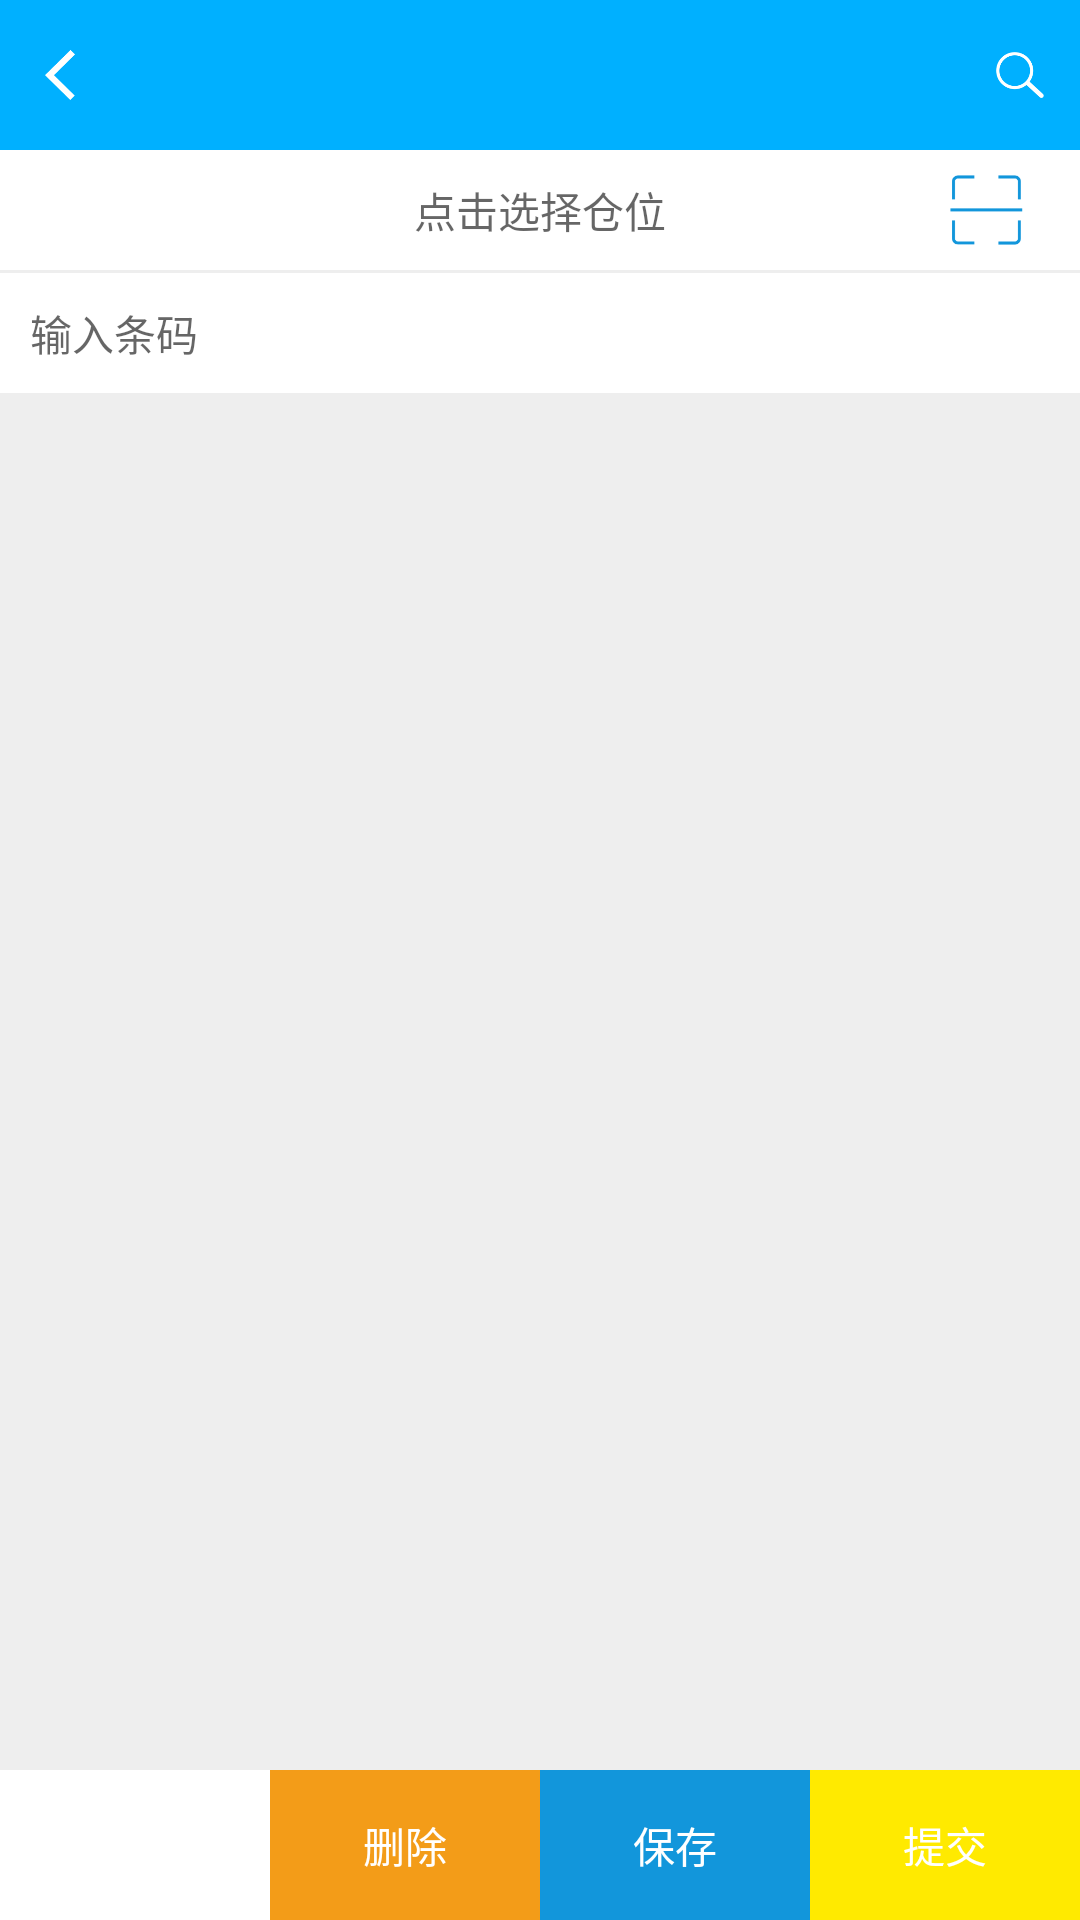

Screen size 1080 x 1920. Icon name, then its center in pixels as (x,y):
back: (60,75)
scan: (986,210)
search: (1020,75)
